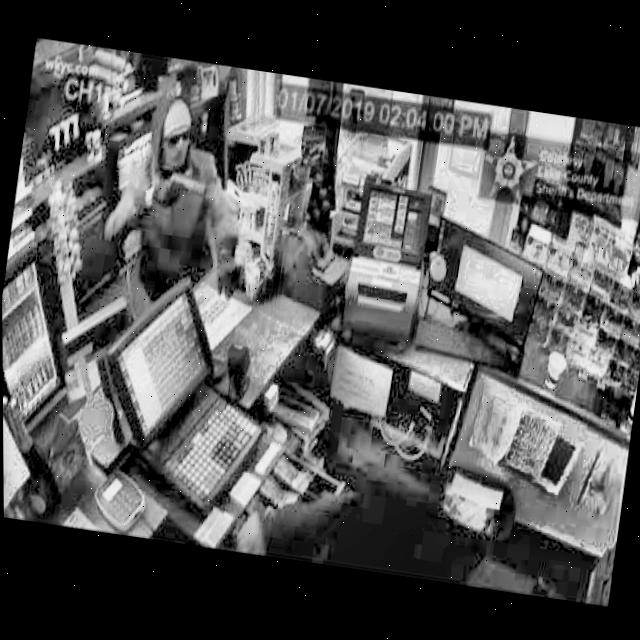pistol: (155, 166, 220, 210)
robbery: (100, 97, 253, 316)
